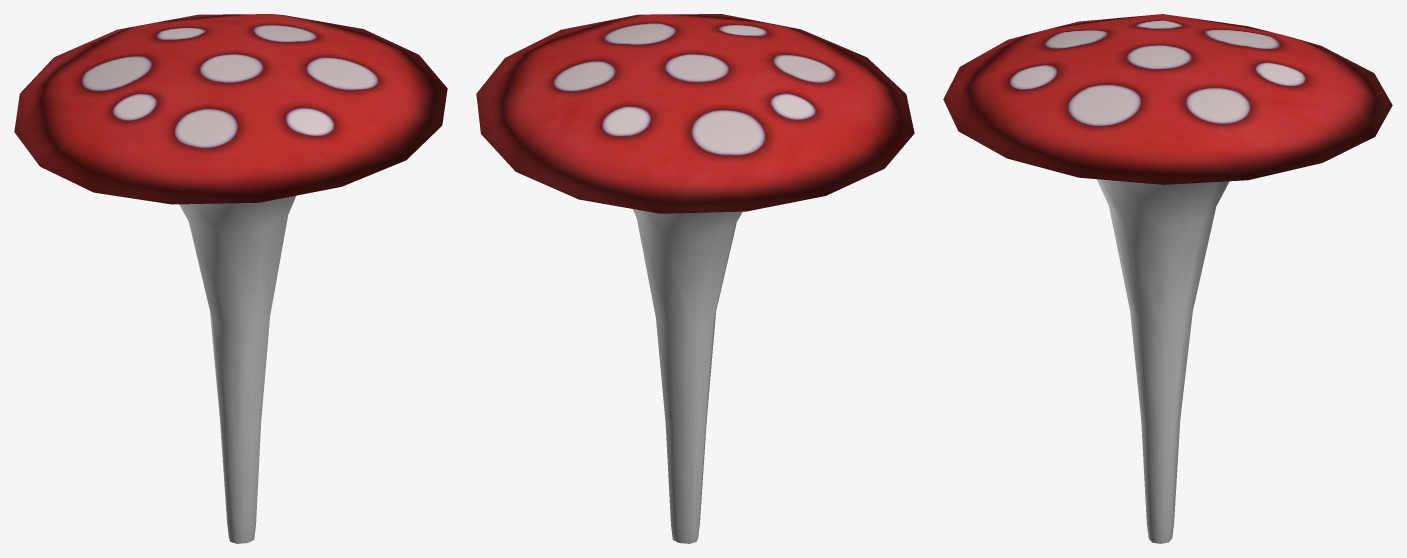
Rendered from Mushroom_Straight3_Red.fbx.
3 renders of one model, left to right at view 1: azimuth 30°, elevation 25°; view 2: azimuth 150°, elevation 25°; view 3: azimuth 270°, elevation 25°, orthographic.
Parts seen in each view (by area): view 1: Mesh; view 2: Mesh; view 3: Mesh.
Boxes of the visible parts, <box> form: Mesh: <box>14,14,447,543</box>; Mesh: <box>476,14,914,543</box>; Mesh: <box>943,14,1392,543</box>.
Size of the model in its own units: 118 by 142 by 121.
